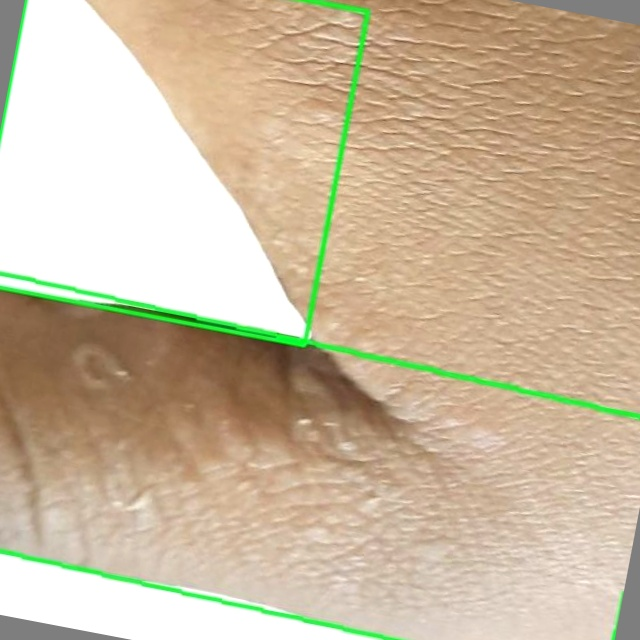Scabies: (0, 272, 639, 639), (0, 0, 369, 345)
